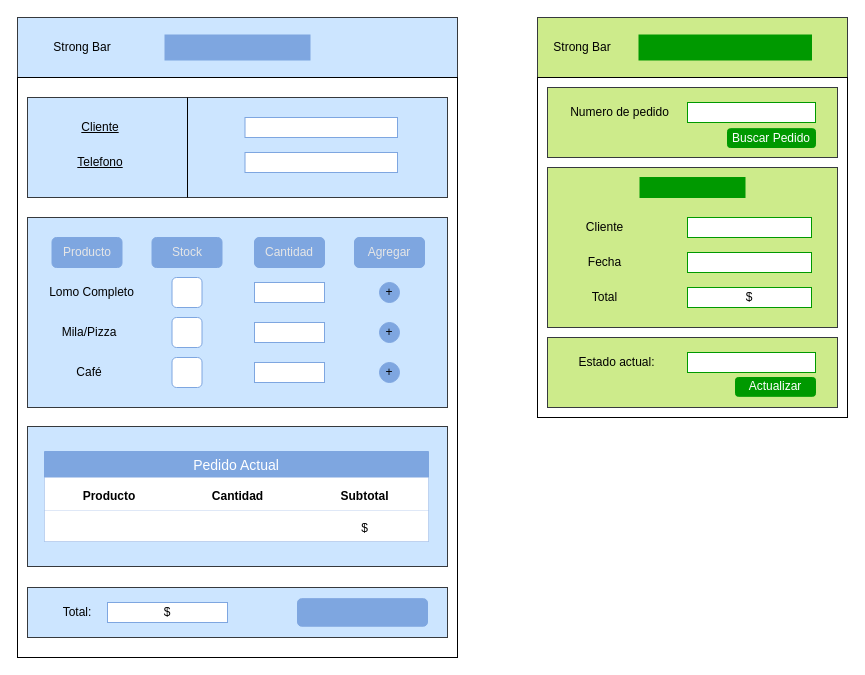
Image size: 865x675. Some labels were removed from this diagram. The centre of each missing label's shape, as x and y in pixels:
"Confirmar Pedido" goes at (x=362, y=612).
"Consultar Estado del Pedido" goes at (x=725, y=47).
"Datos del producto" goes at (x=692, y=187).
"Registrar Pedido" goes at (x=237, y=47).
